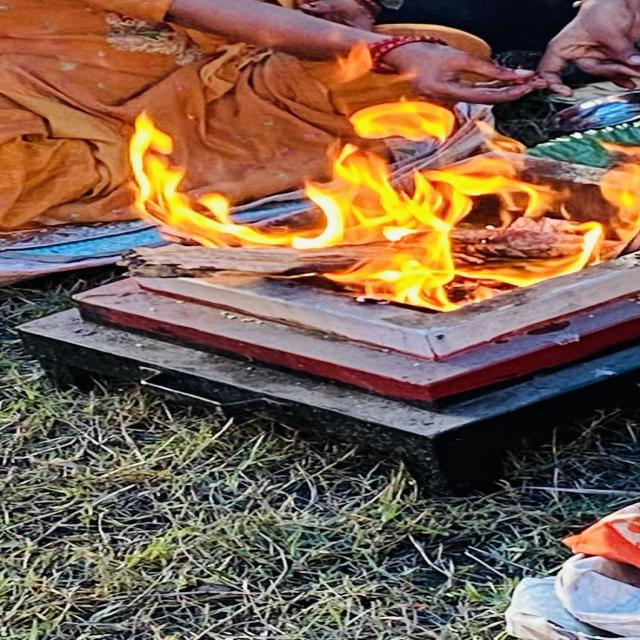fire: (128, 100, 640, 304)
